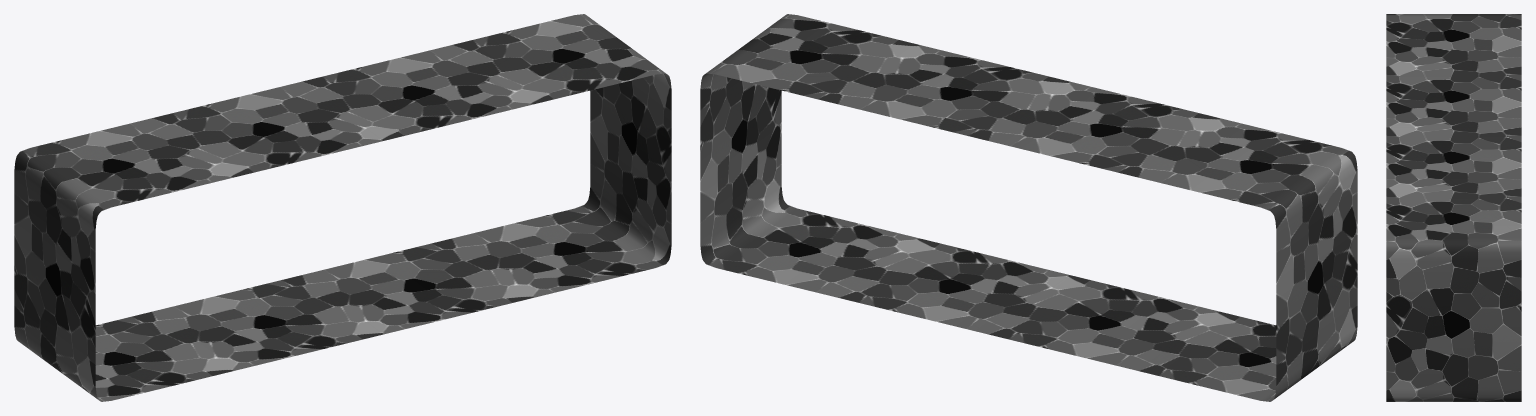
File: BarrierL1.fbx
The picture shows the model from 3 angles, left to right: view 1: azimuth 30°, elevation 25°; view 2: azimuth 150°, elevation 25°; view 3: azimuth 270°, elevation 25°; orthographic projection. The views are drawn at different scales.
Parts seen in each view (by area): view 1: 立方體; view 2: 立方體; view 3: 立方體.
Part boxes in pixels (x1,y1,x2,y2): 立方體: (14, 14, 671, 401); 立方體: (700, 14, 1357, 401); 立方體: (1386, 14, 1521, 401).
Size of the model in its own units: 8.18 by 2 by 2.63.
1 material, 1 textured.
